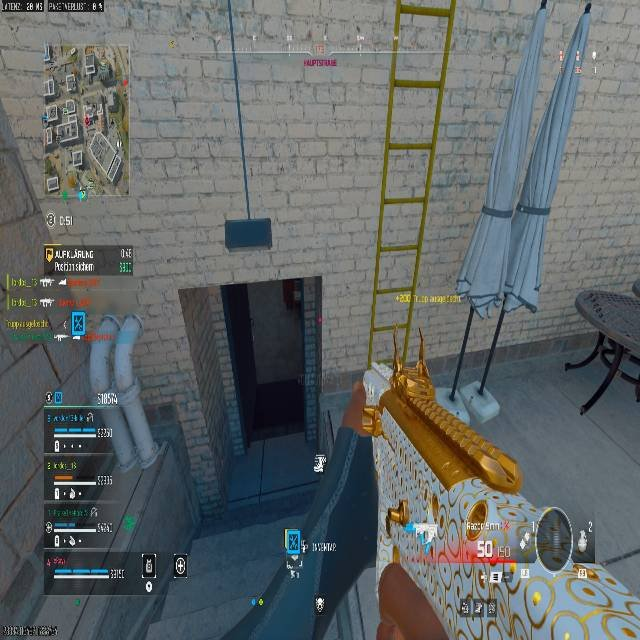head: (521, 506, 590, 568)
